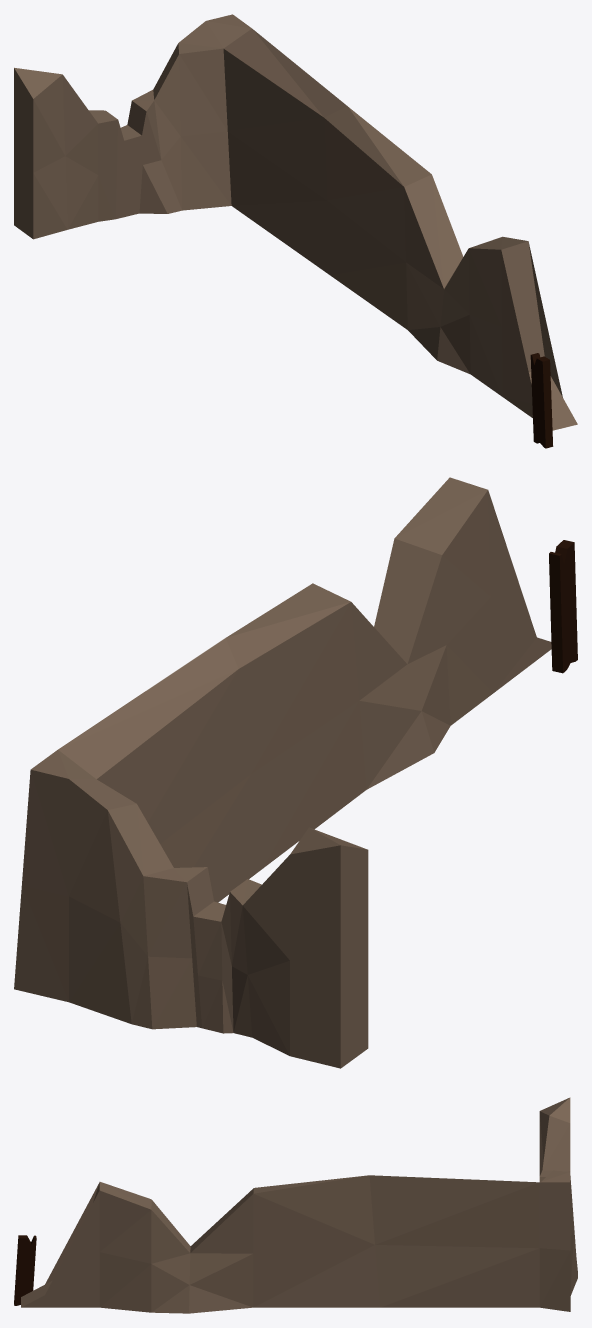
Rendered from M_RuinB.FBX.
3 views of the same model, one above another, from view 1: azimuth 30°, elevation 25°; view 2: azimuth 150°, elevation 25°; view 3: azimuth 270°, elevation 25° (orthographic). The views are drawn at different scales.
Parts seen in each view (by area): view 1: M_RuinB; view 2: M_RuinB; view 3: M_RuinB.
Boxes of the visible parts, x1,y1,x2,y2 form: M_RuinB: (14,14,577,448); M_RuinB: (14,477,577,1068); M_RuinB: (14,1097,577,1313).
Size of the model in its own units: 337 by 239 by 884.
